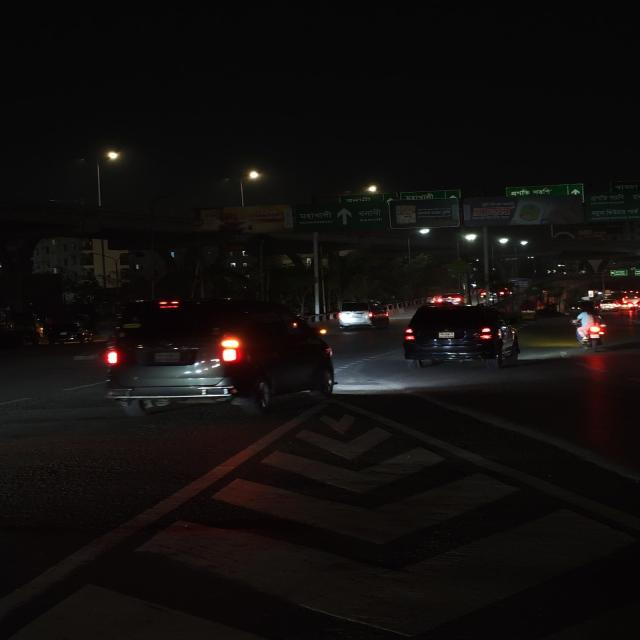car: (93, 297, 336, 417), (397, 303, 520, 371), (330, 300, 391, 334), (598, 296, 625, 314)
motorcycle: (570, 307, 610, 351)
rickshaw: (515, 301, 541, 323)
